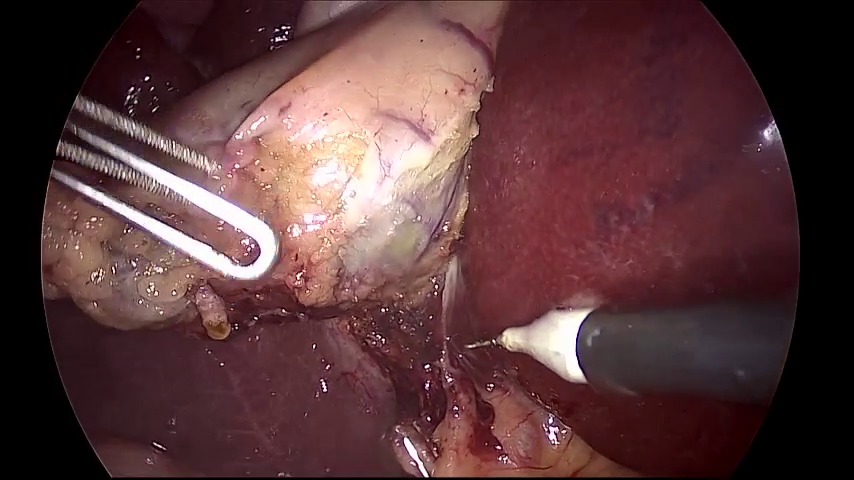grasper: (50, 94, 270, 278)
lhook: (467, 293, 797, 421)
